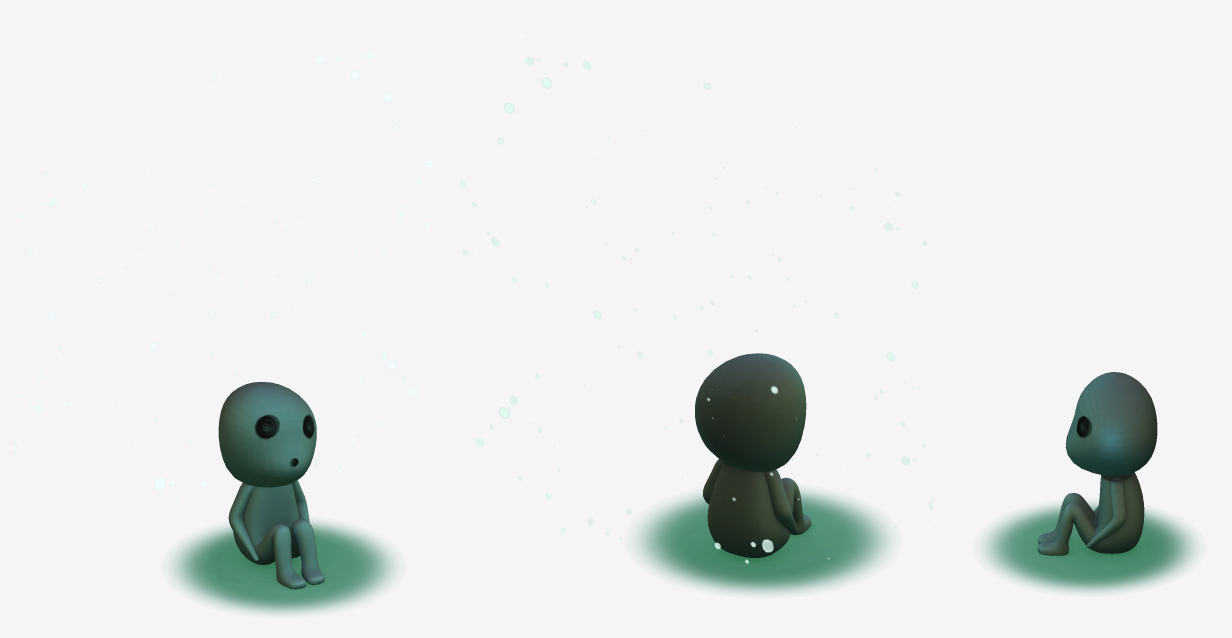
Rendered from kodama.glb.
The picture shows the model from 3 angles, left to right: view 1: azimuth 30°, elevation 25°; view 2: azimuth 150°, elevation 25°; view 3: azimuth 270°, elevation 25°; orthographic projection. The views are drawn at different scales.
Parts seen in each view (by area): view 1: Roundcube_kodama_0, Plane.001_background_0; view 2: Roundcube_kodama_0, Plane.001_background_0; view 3: Roundcube_kodama_0, Plane.001_background_0.
Part boxes in pixels (left/top/right/bottom): Roundcube_kodama_0: left=218, top=382, right=324, bottom=589; Plane.001_background_0: left=14, top=30, right=431, bottom=614; Roundcube_kodama_0: left=695, top=353, right=811, bottom=557; Plane.001_background_0: left=460, top=32, right=932, bottom=593; Roundcube_kodama_0: left=1038, top=372, right=1157, bottom=555; Plane.001_background_0: left=982, top=502, right=1196, bottom=592.
Bounding box in the file's own units: 509 × 534 × 285.
2 materials, 2 textured.
